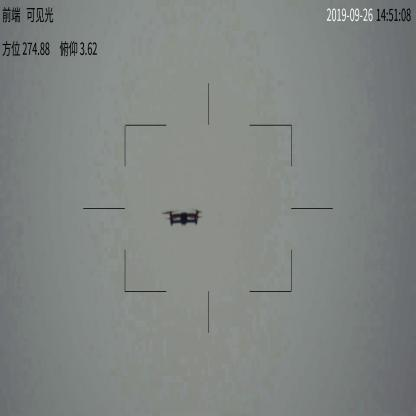uav: (161, 207, 206, 232)
